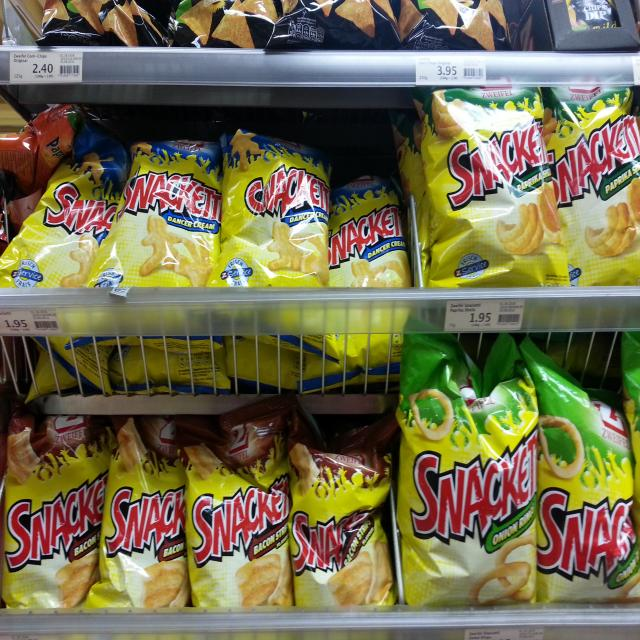Chips: (396, 316, 541, 608), (413, 90, 571, 293), (527, 331, 640, 607), (192, 399, 298, 612), (0, 411, 110, 608), (283, 426, 396, 610), (0, 128, 126, 290), (543, 82, 640, 288), (225, 126, 327, 300), (96, 422, 192, 606), (122, 138, 224, 294), (317, 168, 410, 290)
